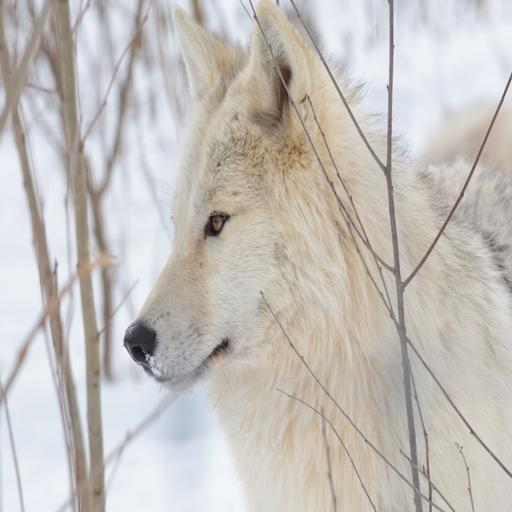Wolf: (120, 0, 512, 509)
